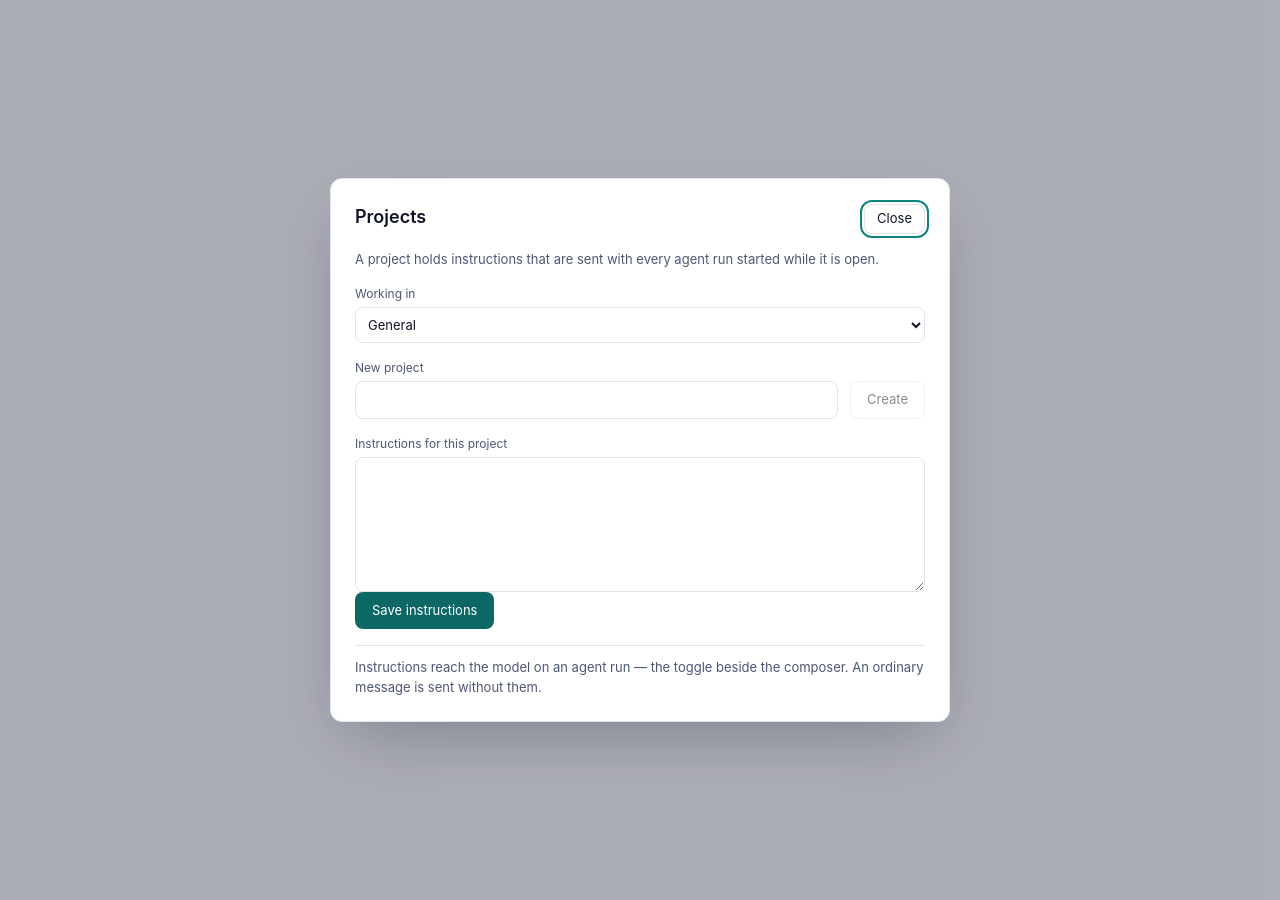
Test: the projects pane › acknowledges a save that worked, and stops as soon as the box says something else
Click the text box labelled "Instructions for this project" at (640, 524), box [355,456,925,592]
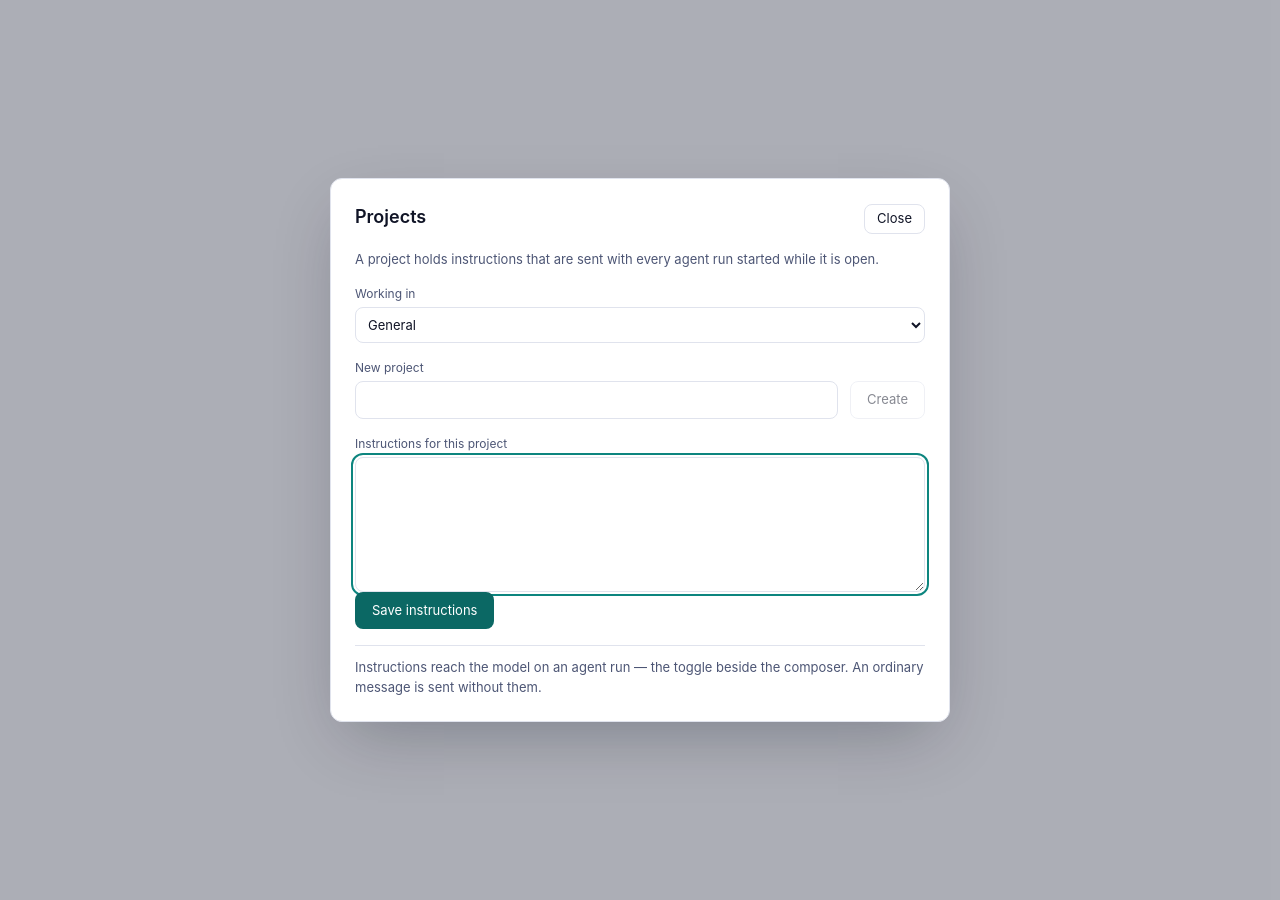
Type keys "always answer in French"
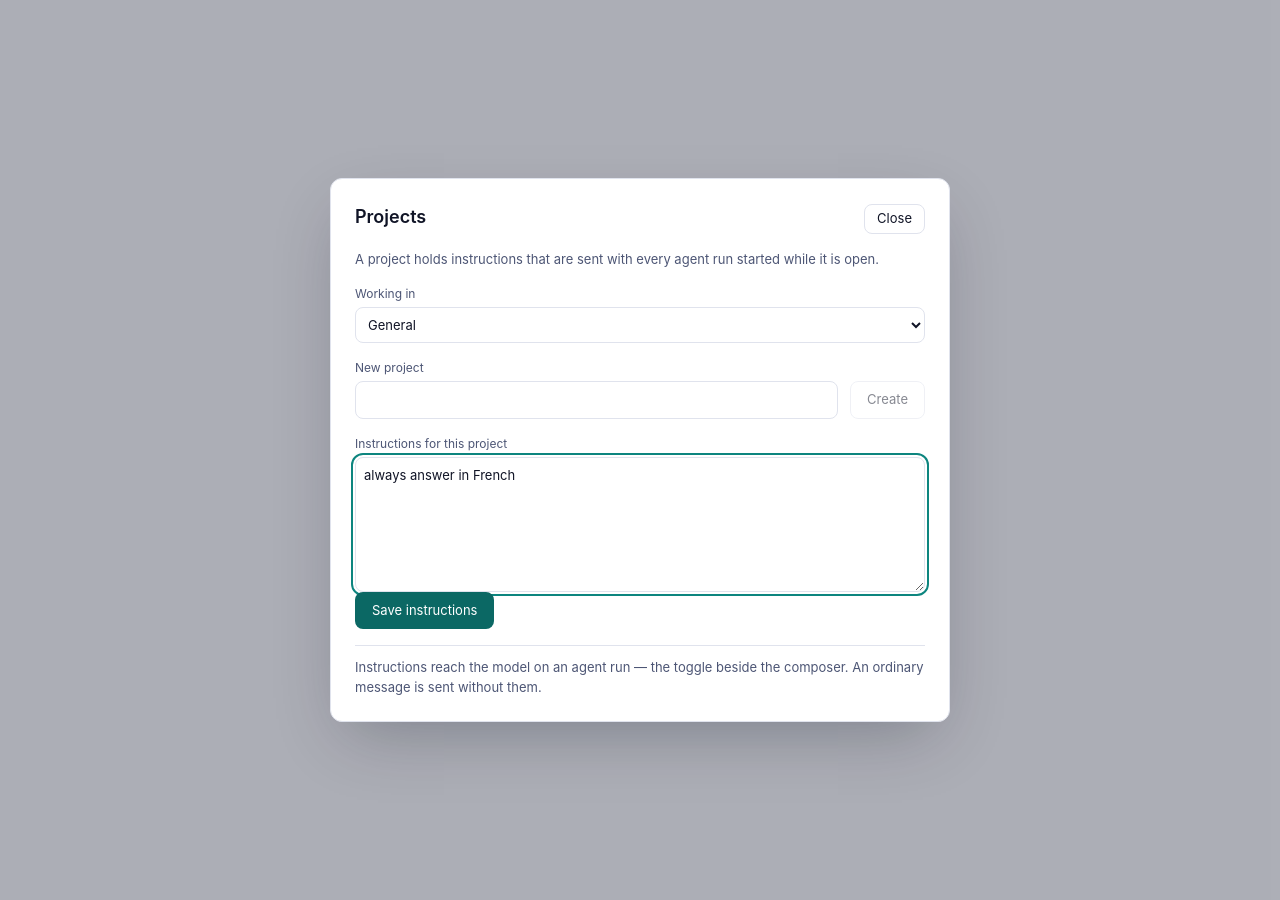
Click the button "Save instructions" at (425, 610), box [355,592,494,629]
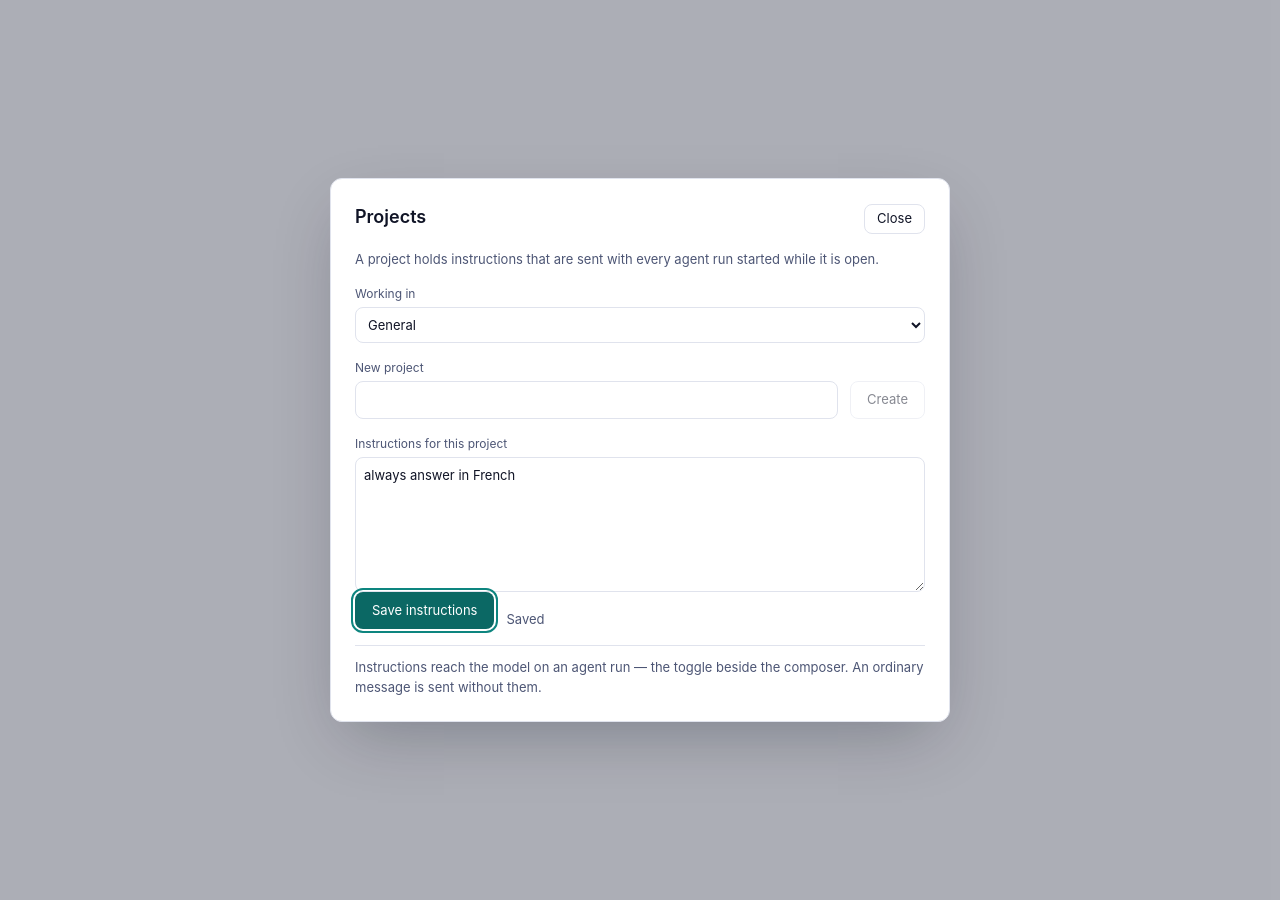
Expected: the text box labelled "Instructions for this project" holds "always answer in French"
Expected: the text "Saved" is shown, [506,610,544,629]
Type " and be brief" into the text box labelled "Instructions for this project" at (640, 524), box [355,456,925,592]
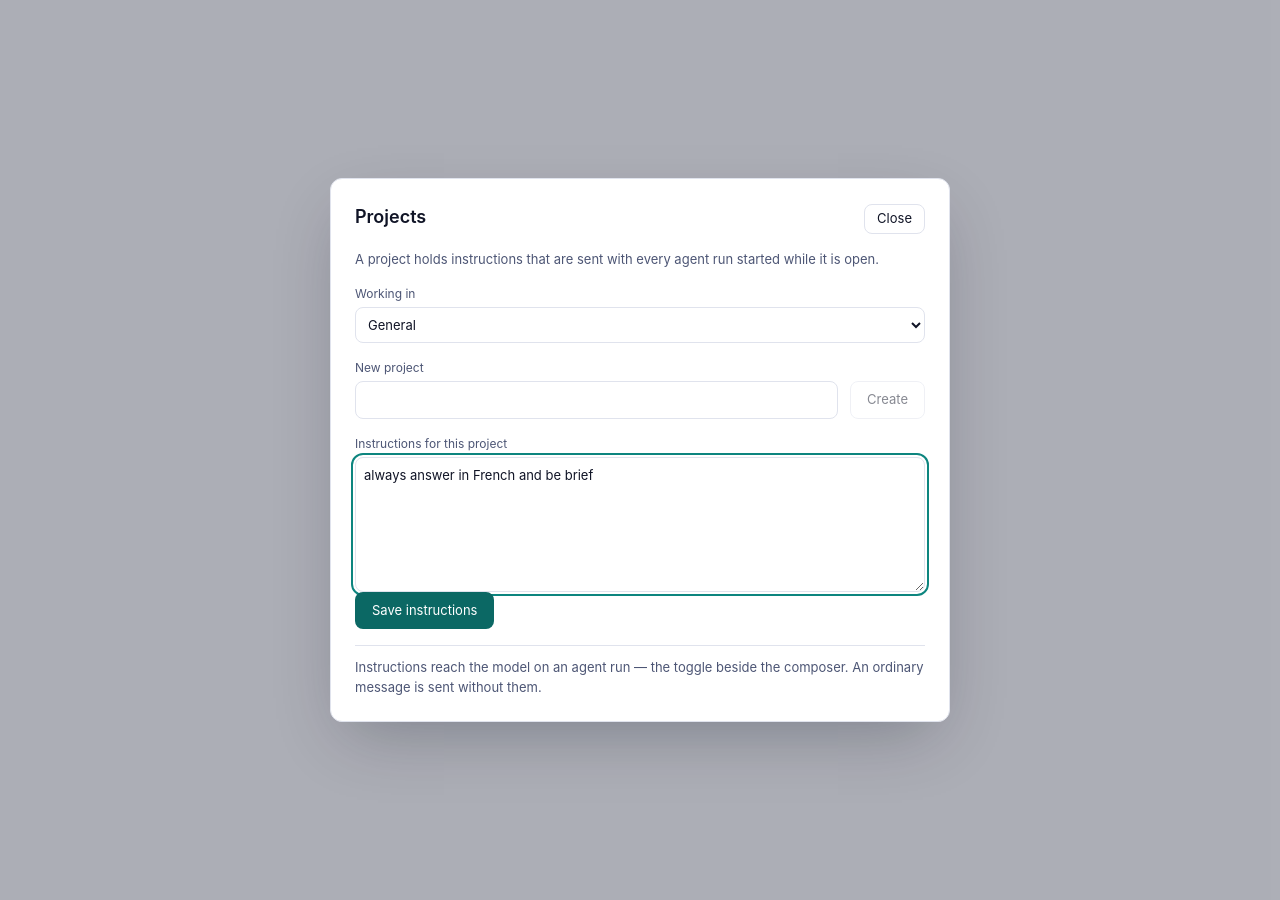
Expected: the text "Saved" is gone
